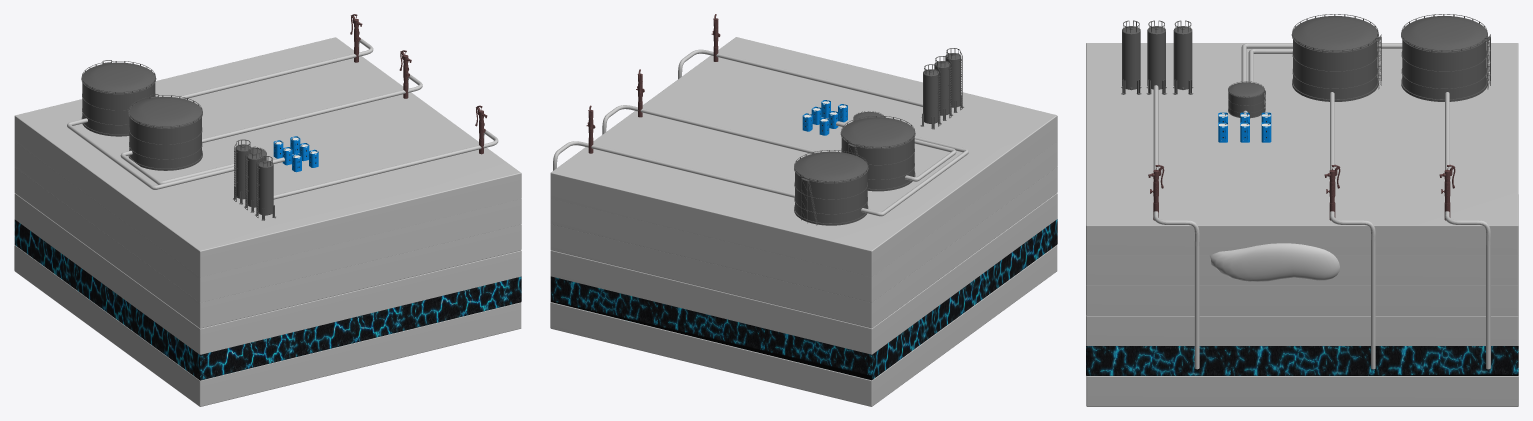
The model's file is Petroleo_2.fbx.
3 views of the same model, side by side, from view 1: azimuth 30°, elevation 25°; view 2: azimuth 150°, elevation 25°; view 3: azimuth 270°, elevation 25° (orthographic). The views are drawn at different scales.
Parts seen in each view (by area): view 1: subsuelo_1, subsuelo_5, subsuelo_4, subsuelo_3, subsuelo_6, subsuelo_2, Cylinder16, oil_tank:Cylinder16, pCylinder21, pCylinder20, Vertical_Storage_Tank_Black:Mesh, pCylinder13 (+4 smaller); view 2: subsuelo_1, subsuelo_5, subsuelo_4, subsuelo_3, subsuelo_6, subsuelo_2, oil_tank:Cylinder16, Cylinder16, pCylinder21, pCylinder22, pCylinder20, Mesh1 (+4 smaller); view 3: subsuelo_1, subsuelo_5, subsuelo_3, subsuelo_4, subsuelo_6, subsuelo_2, Cylinder16, oil_tank:Cylinder16, pCube11, pCylinder21, Mesh1, pCylinder20 (+9 smaller).
Part boxes in pixels (x1,y1,x2,y2): subsuelo_1: [14, 37, 521, 277]; subsuelo_5: [14, 245, 521, 406]; subsuelo_4: [14, 193, 521, 354]; subsuelo_3: [14, 167, 521, 328]; subsuelo_6: [14, 219, 521, 380]; subsuelo_2: [14, 142, 521, 302]; Cylinder16: [128, 94, 202, 170]; oil_tank:Cylinder16: [81, 60, 156, 136]; pCylinder21: [273, 130, 498, 199]; pCylinder20: [202, 75, 422, 142]; Vertical_Storage_Tank_Black:Mesh: [255, 155, 275, 220]; pCylinder13: [67, 118, 235, 189]; subsuelo_1: [550, 37, 1057, 276]; subsuelo_5: [550, 245, 1057, 406]; subsuelo_4: [550, 193, 1057, 354]; subsuelo_3: [550, 167, 1057, 328]; subsuelo_6: [550, 219, 1057, 380]; subsuelo_2: [550, 141, 1057, 302]; oil_tank:Cylinder16: [794, 150, 868, 225]; Cylinder16: [840, 115, 915, 191]; pCylinder21: [678, 49, 922, 106]; pCylinder22: [553, 141, 794, 197]; pCylinder20: [602, 105, 820, 153]; Mesh1: [920, 64, 941, 129]; subsuelo_1: [1086, 43, 1518, 255]; subsuelo_5: [1086, 194, 1518, 406]; subsuelo_3: [1086, 285, 1518, 315]; subsuelo_4: [1086, 315, 1518, 345]; subsuelo_6: [1086, 346, 1518, 375]; subsuelo_2: [1086, 255, 1518, 285]; Cylinder16: [1291, 14, 1381, 101]; oil_tank:Cylinder16: [1401, 14, 1490, 101]; pCube11: [1209, 243, 1339, 281]; pCylinder21: [1153, 85, 1199, 369]; Mesh1: [1173, 20, 1193, 94]; pCylinder20: [1330, 92, 1375, 369].
Bounding box in the file's own units: 1492 × 919 × 1448.
